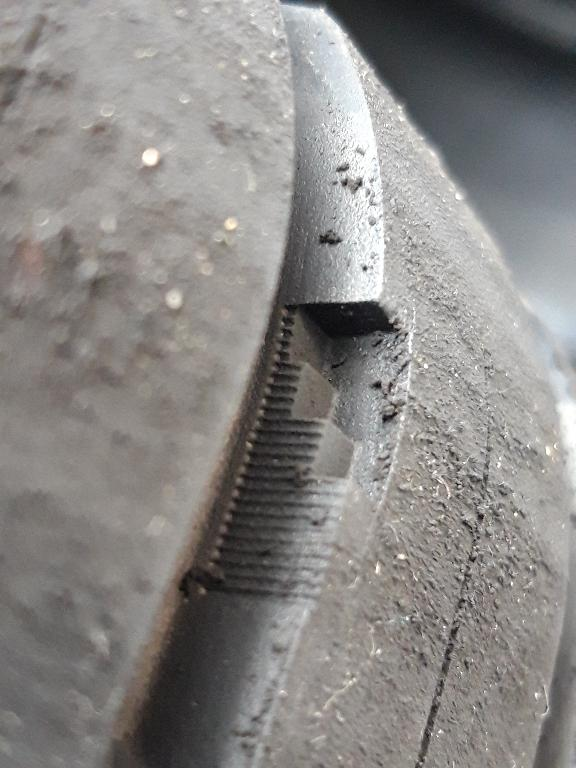temoin:75: (219, 289, 431, 564)
